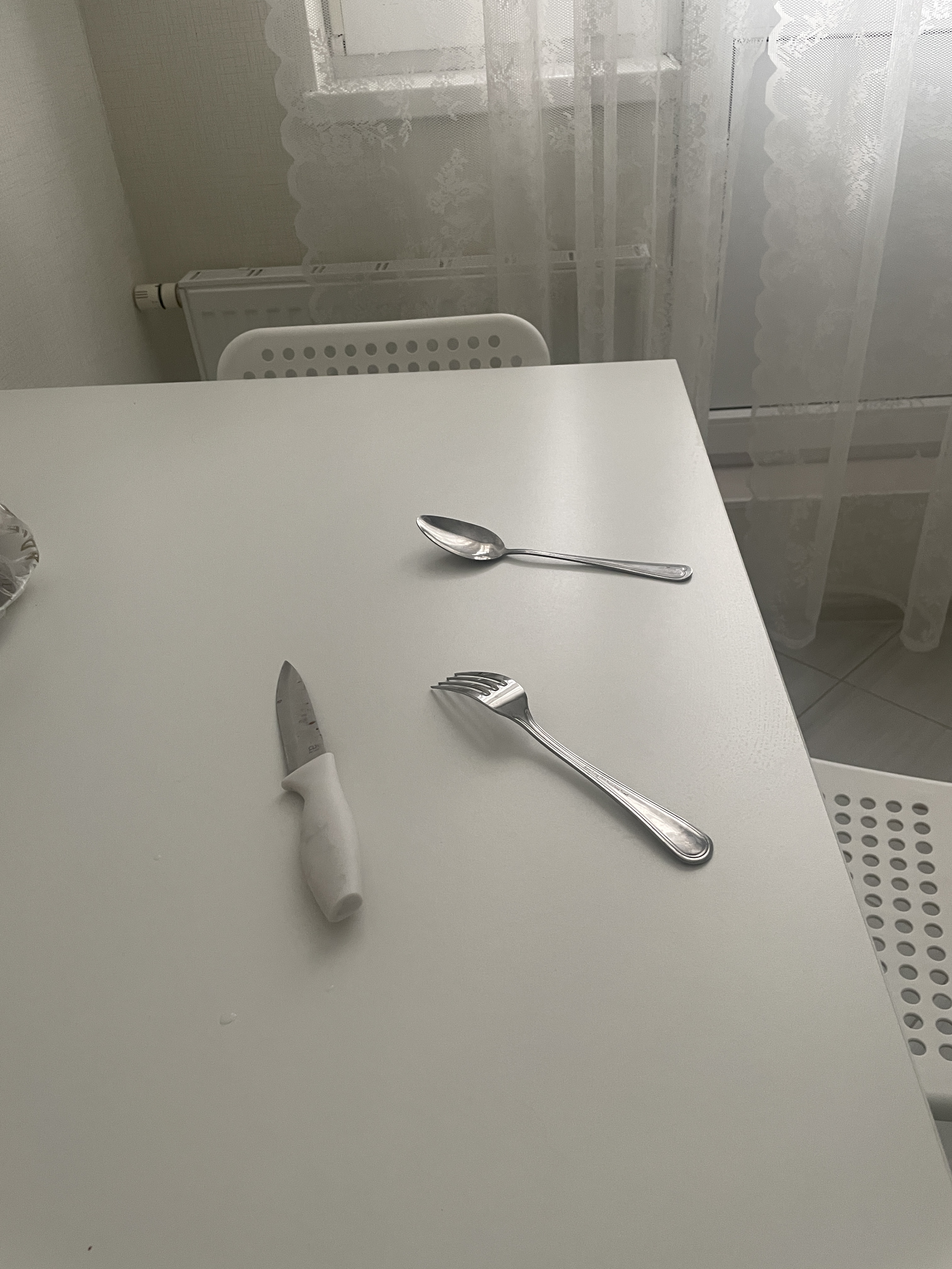knife: (276, 661, 363, 922)
spoon: (416, 515, 693, 582)
